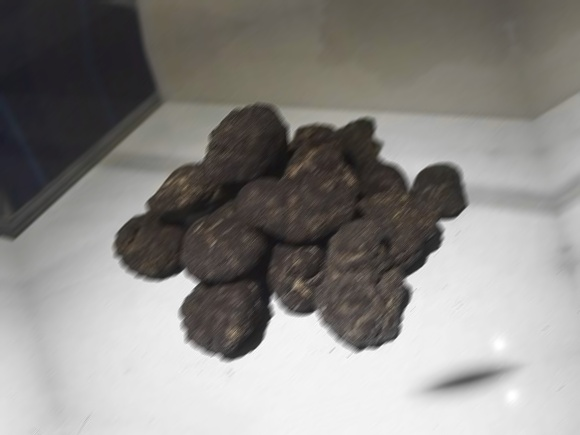halobolite: (312, 244, 416, 380), (255, 140, 384, 237), (164, 285, 273, 372), (200, 90, 292, 193), (174, 192, 274, 265), (109, 182, 190, 264), (174, 199, 266, 269), (258, 239, 324, 328), (424, 164, 479, 233)
